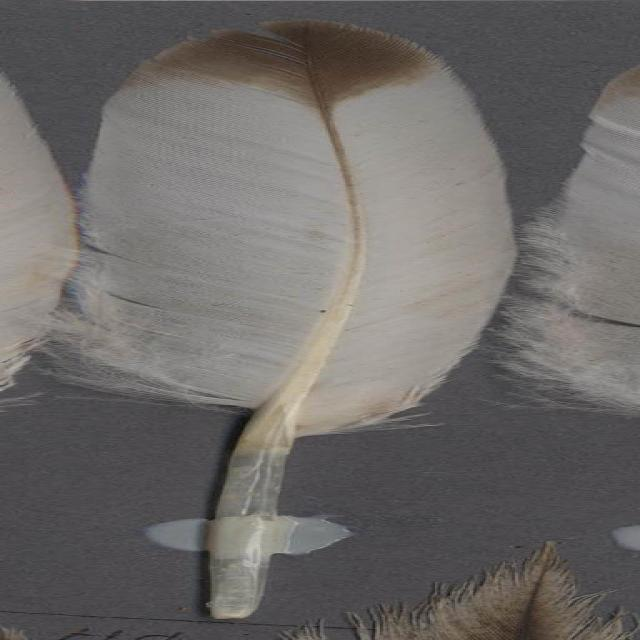feather: (61, 19, 539, 621)
